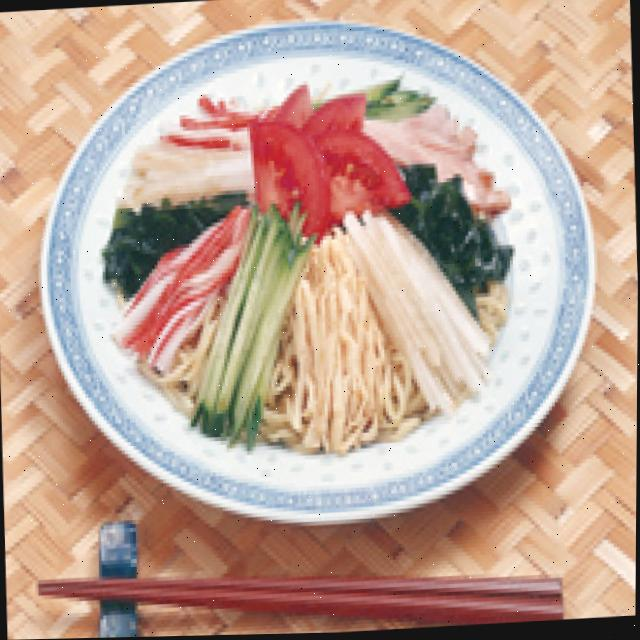面条主食: (18, 0, 609, 544)
